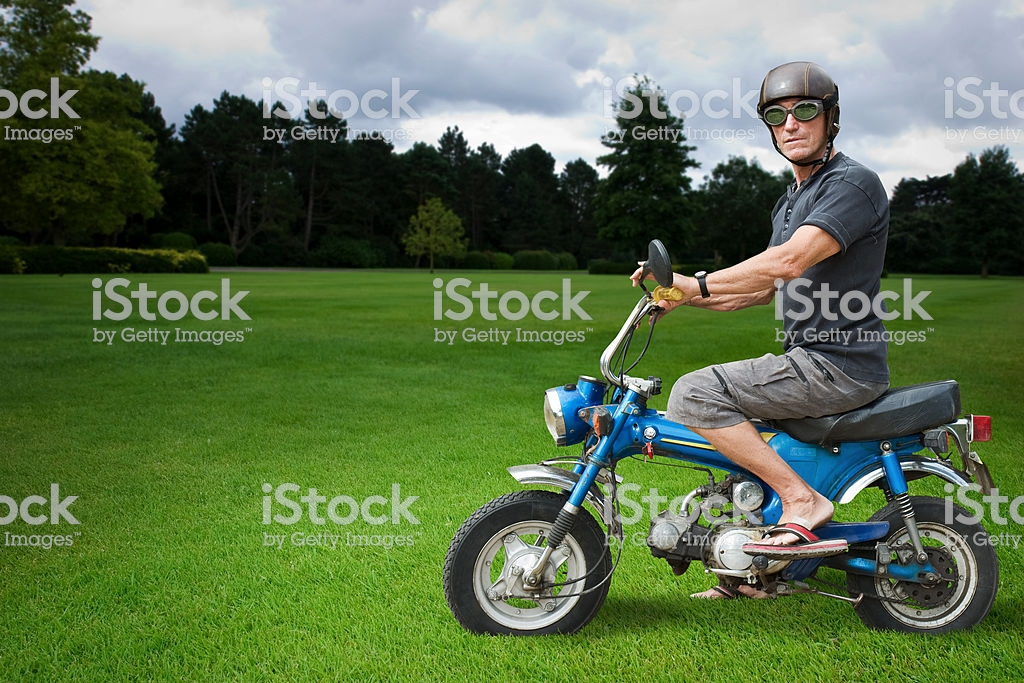helmet: (758, 60, 847, 141)
